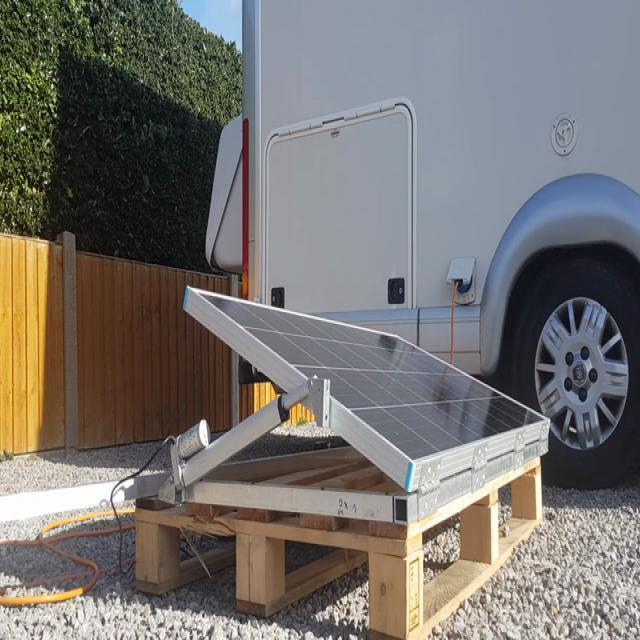Normal Solar Panel: (184, 289, 550, 493)
